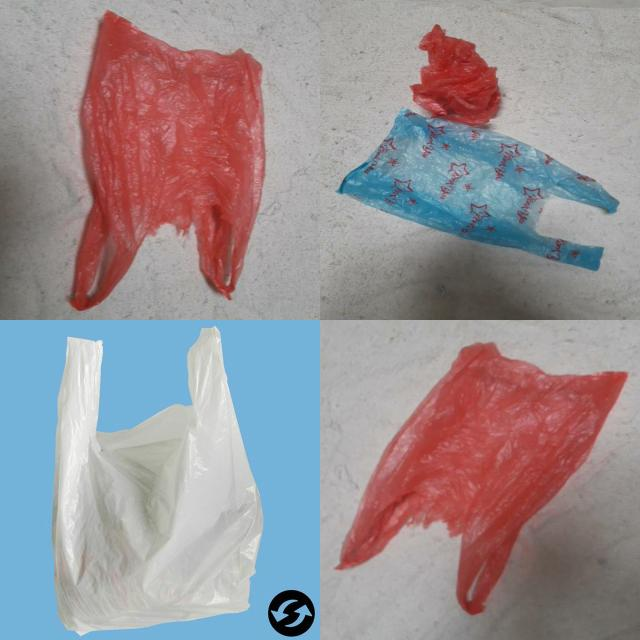Single-layer Plastic: (338, 342, 628, 614), (52, 328, 262, 634), (70, 11, 265, 310), (338, 110, 619, 270), (411, 25, 500, 125)
